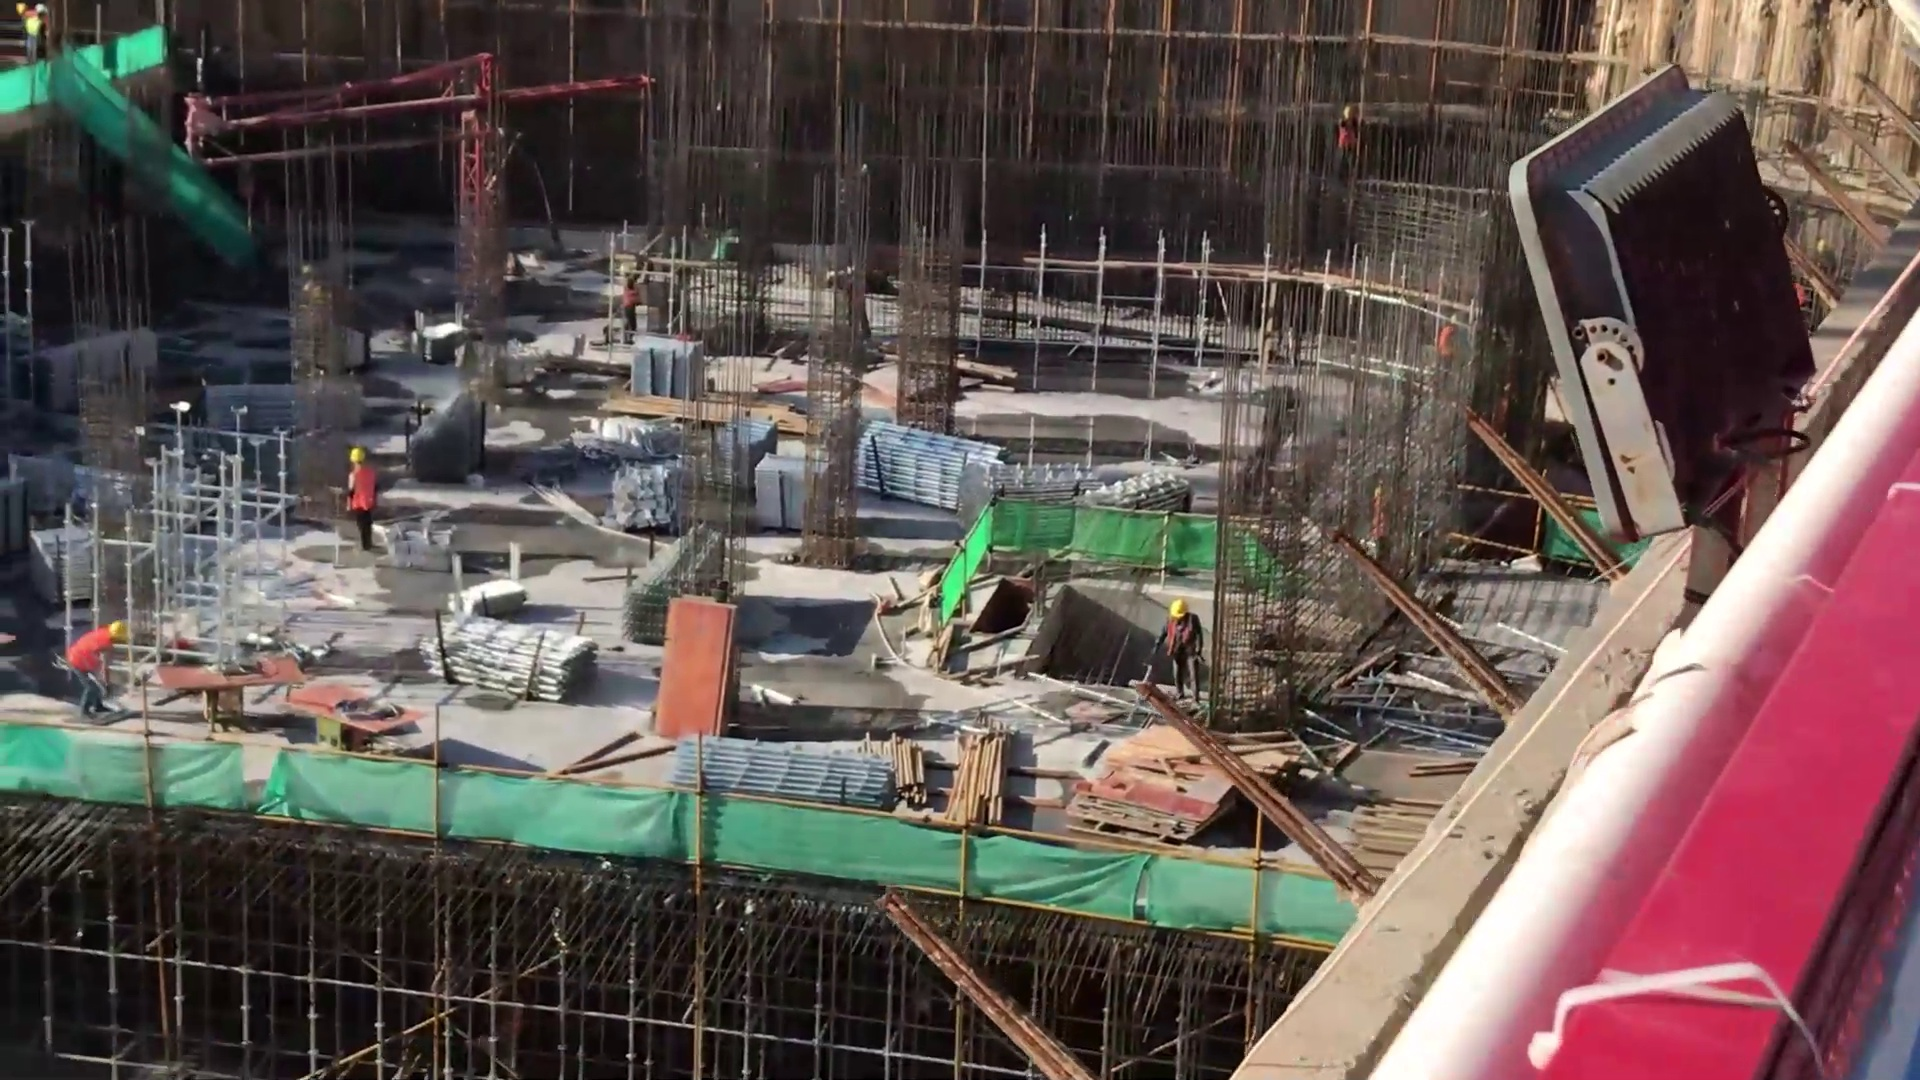board: (151, 656, 419, 753), (1081, 757, 1225, 845), (654, 594, 732, 753)
helmet: (102, 611, 144, 650), (1160, 591, 1194, 626), (336, 443, 366, 472), (617, 265, 635, 283)
person: (54, 610, 140, 731), (1153, 596, 1220, 705), (330, 447, 386, 550), (607, 268, 645, 346), (14, 1, 52, 67)
scaffold: (422, 597, 615, 716), (858, 396, 1000, 516), (678, 731, 881, 808), (1010, 460, 1203, 524)
vest: (67, 623, 117, 675), (343, 464, 377, 522), (1168, 620, 1195, 652), (620, 282, 638, 312)
wood: (873, 720, 1028, 822), (601, 390, 833, 446), (1352, 797, 1448, 885)
